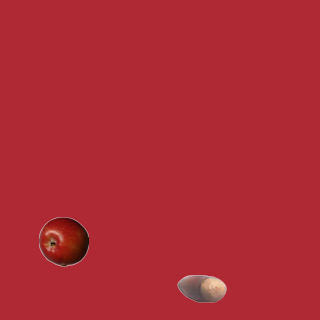Apple Braeburn: (38, 216, 88, 266)
Hazelnut: (176, 263, 226, 313)
